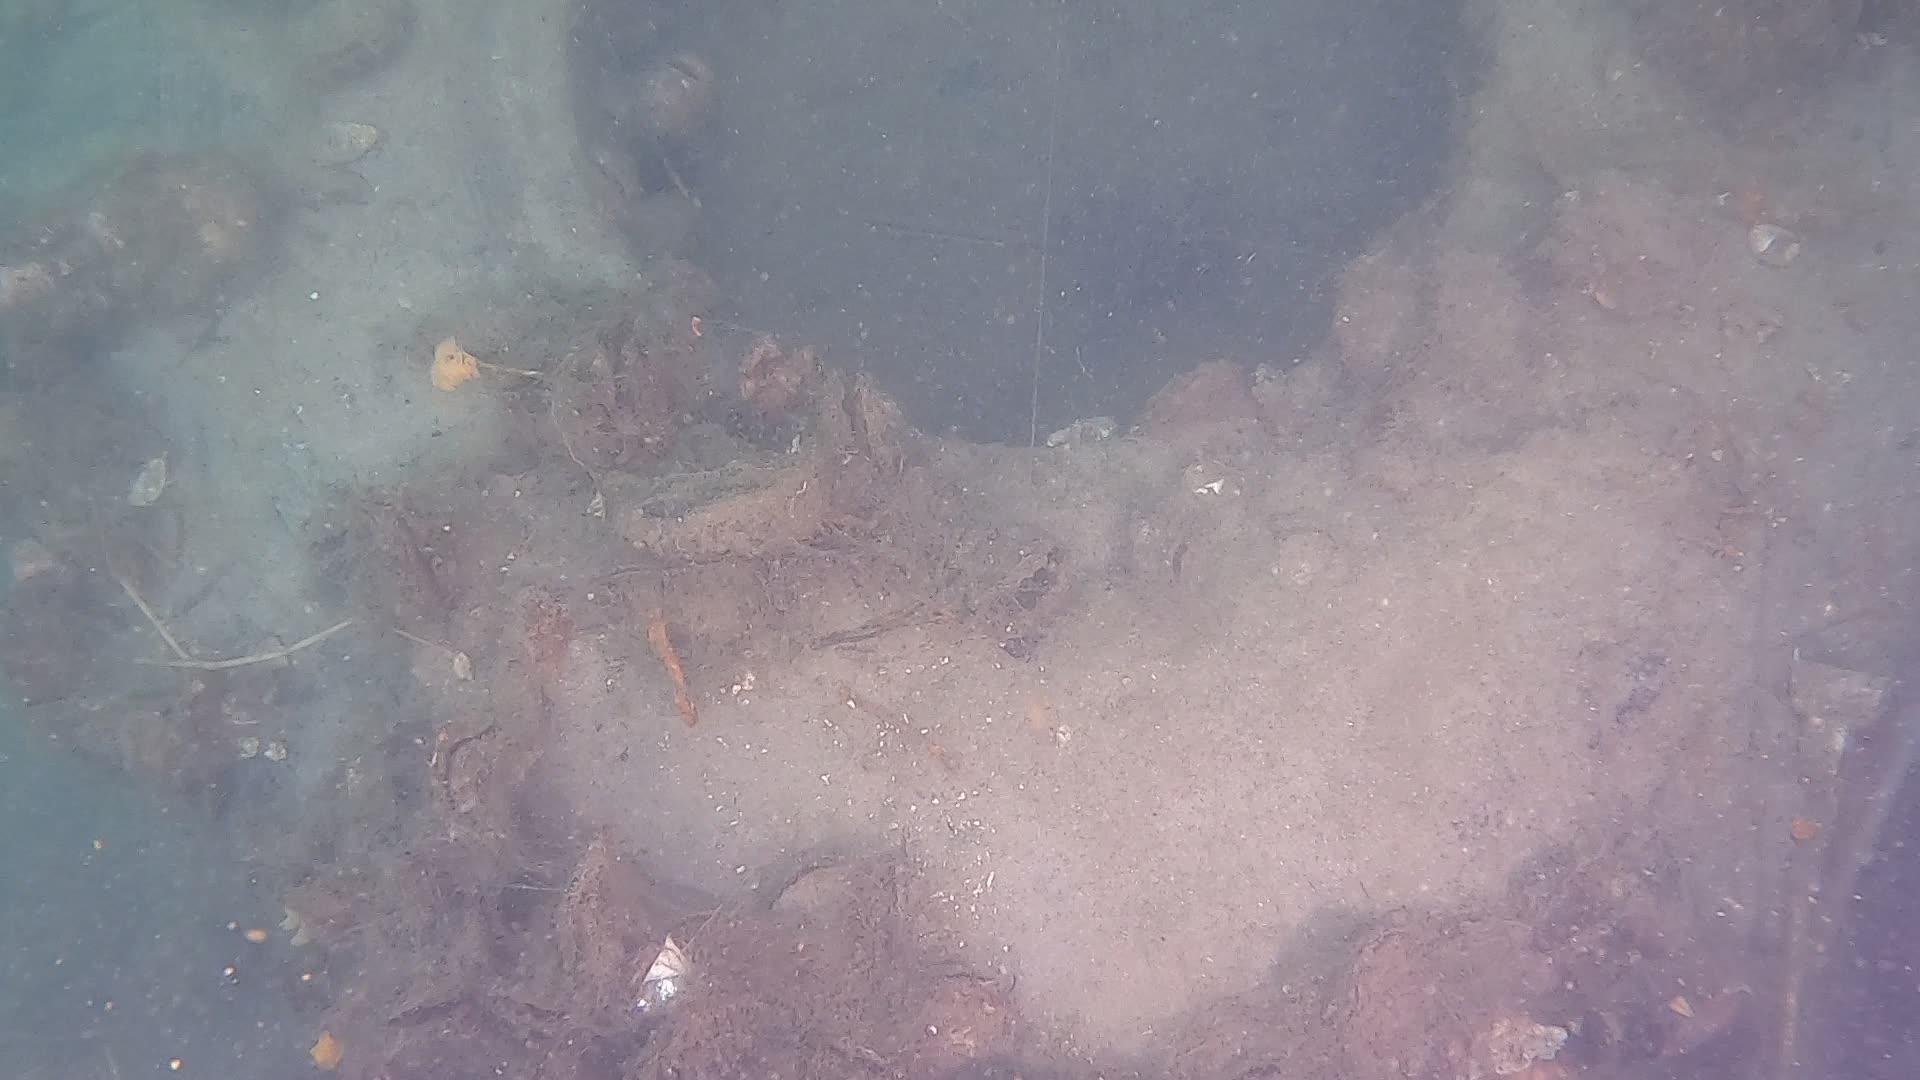tire: (0, 1, 1920, 1080)
